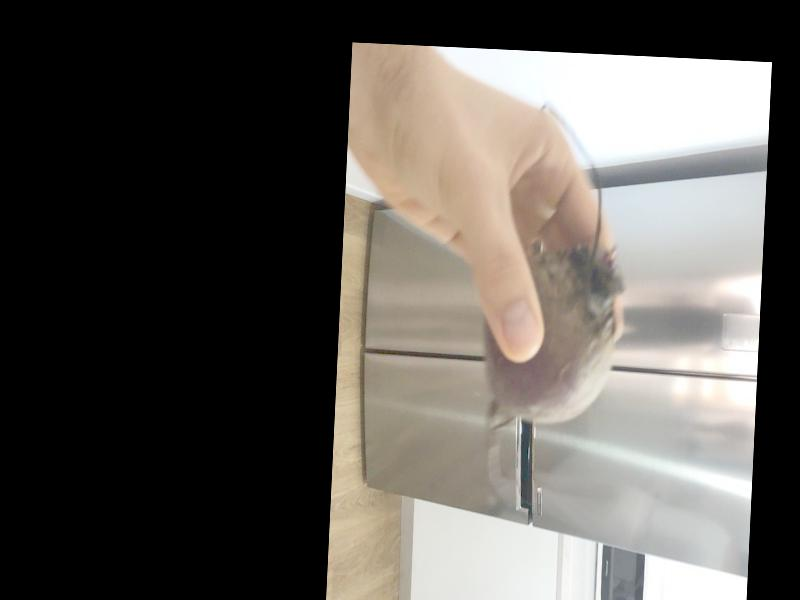Beet: (479, 102, 632, 457)
